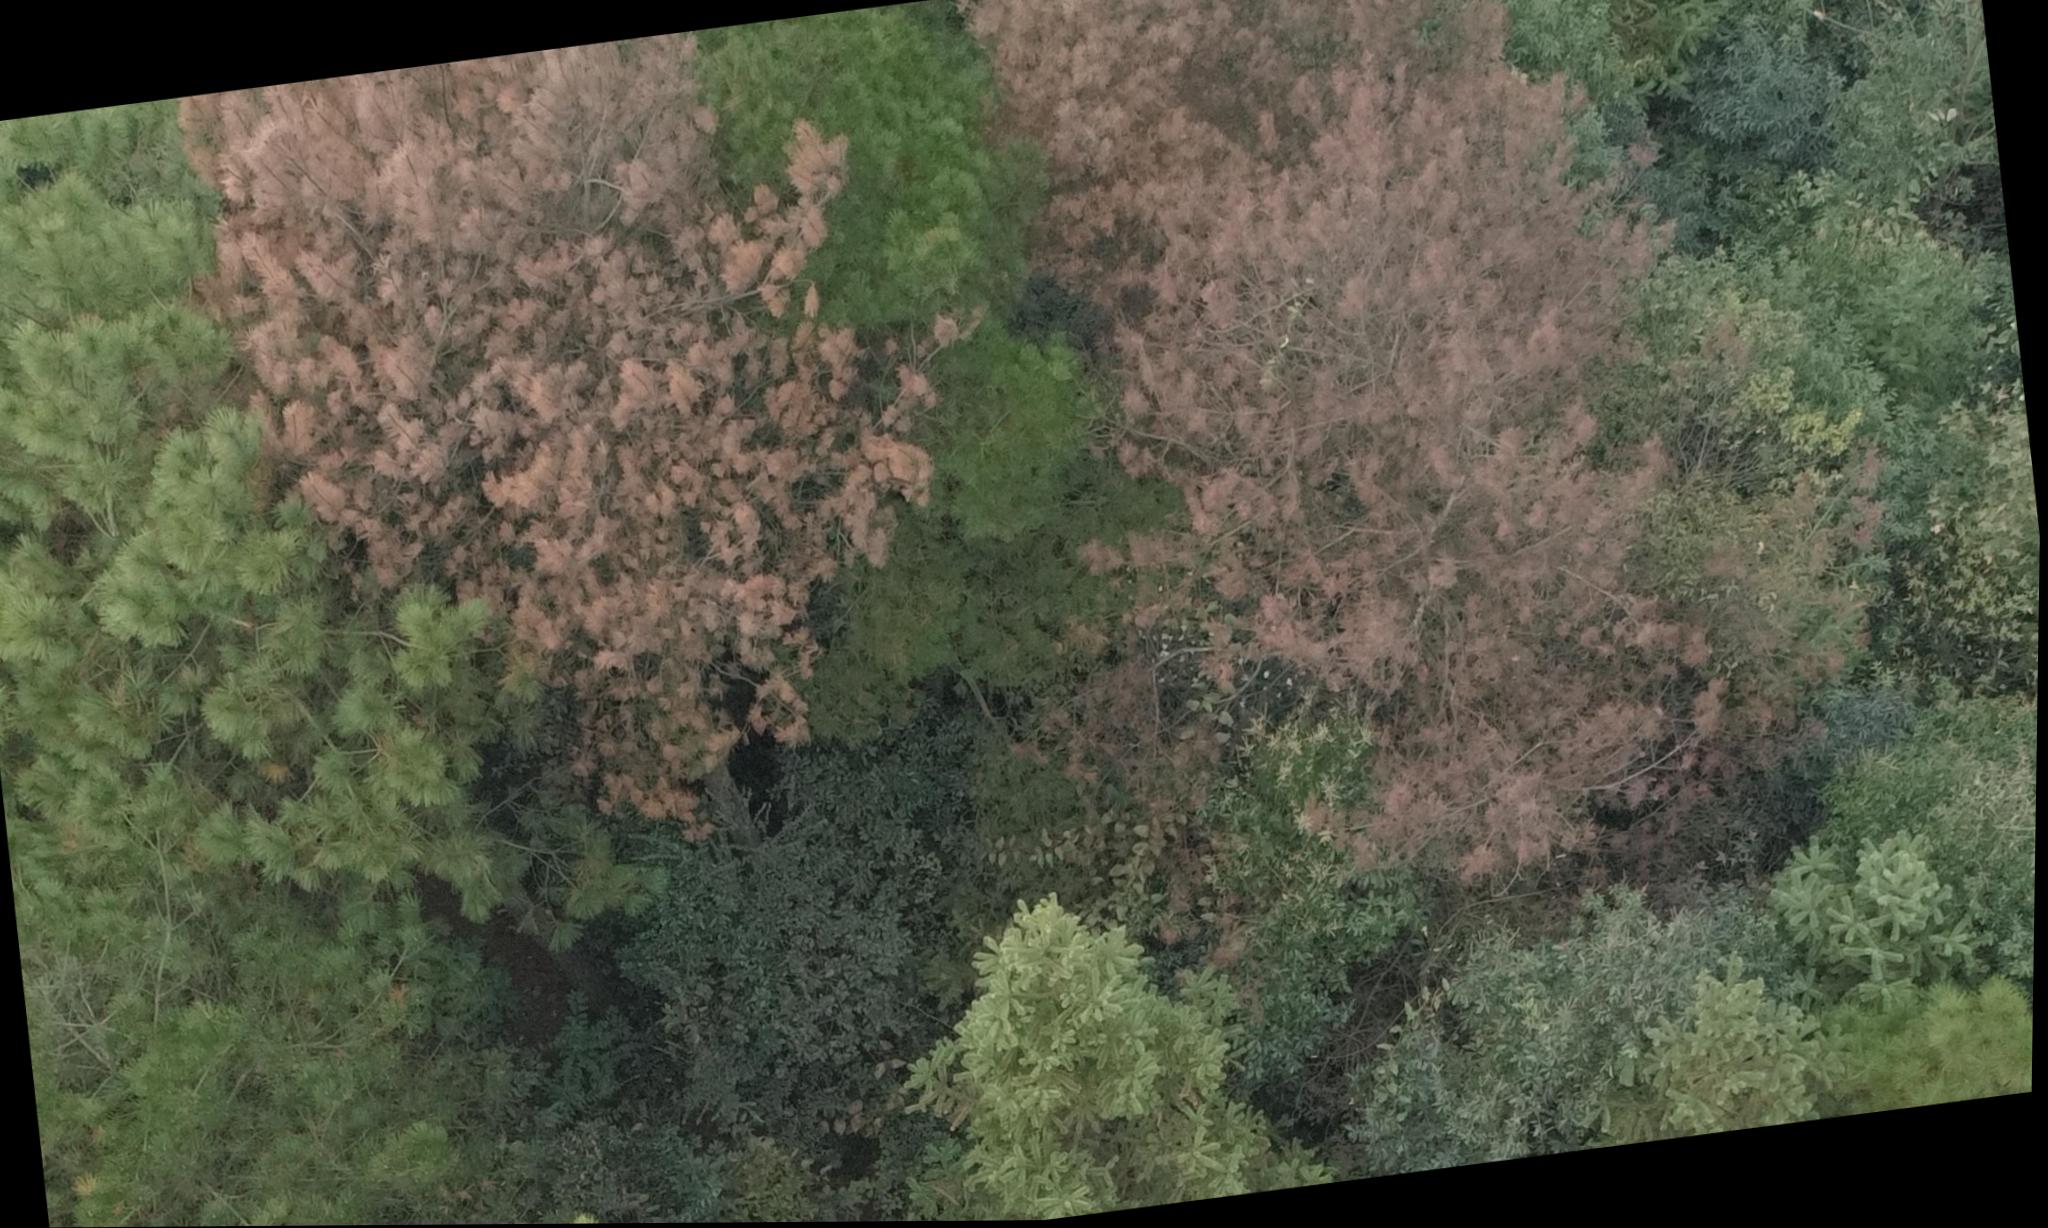heavy: (993, 0, 1751, 941), (190, 15, 979, 884)
